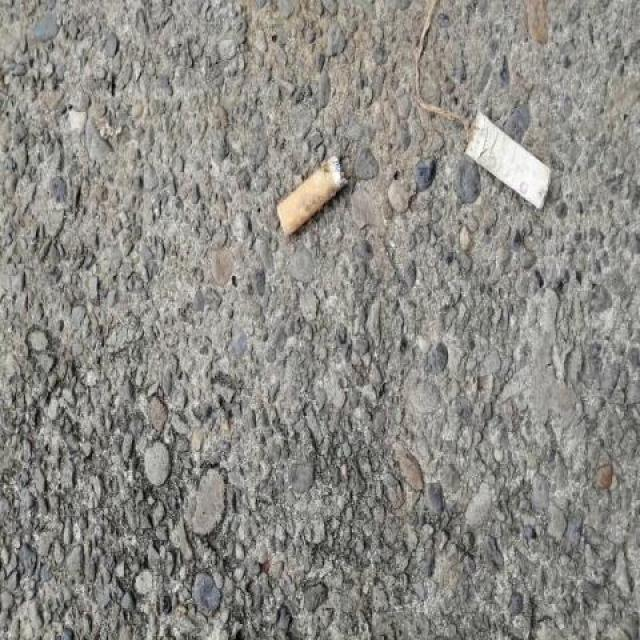non-organic waste: (462, 101, 555, 214), (274, 149, 353, 242)
